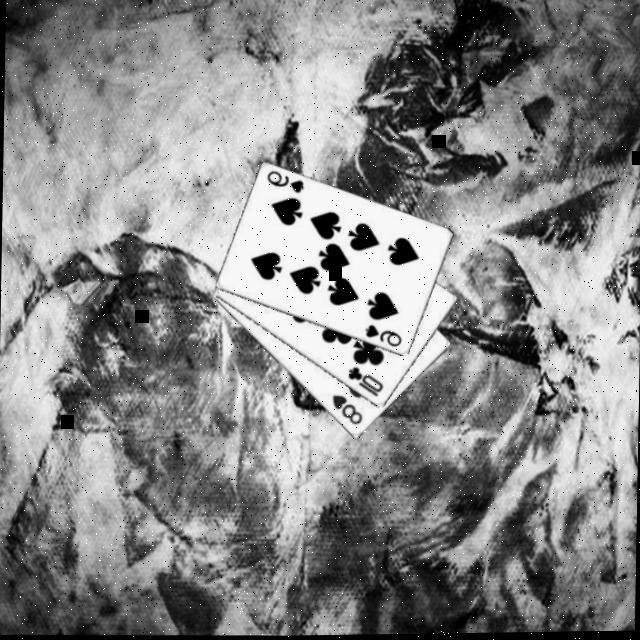10C: (346, 363, 388, 400)
8H: (330, 391, 367, 428)
9S: (364, 321, 406, 350), (266, 167, 308, 196)
